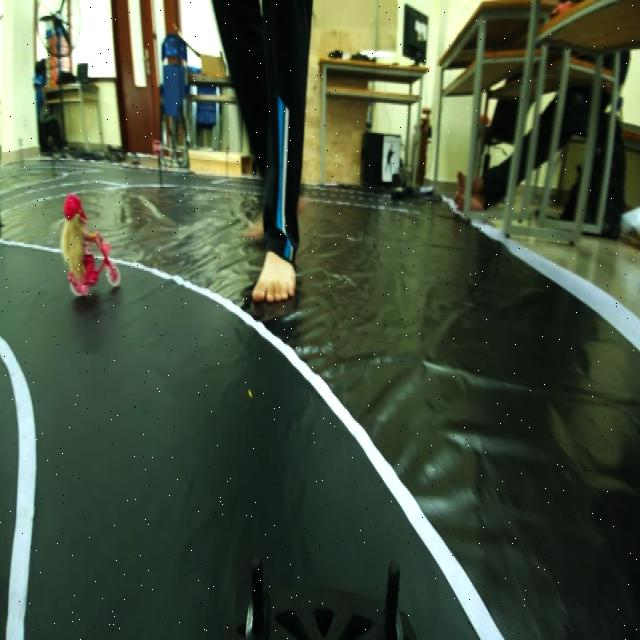pedestrian: (55, 192, 124, 296)
